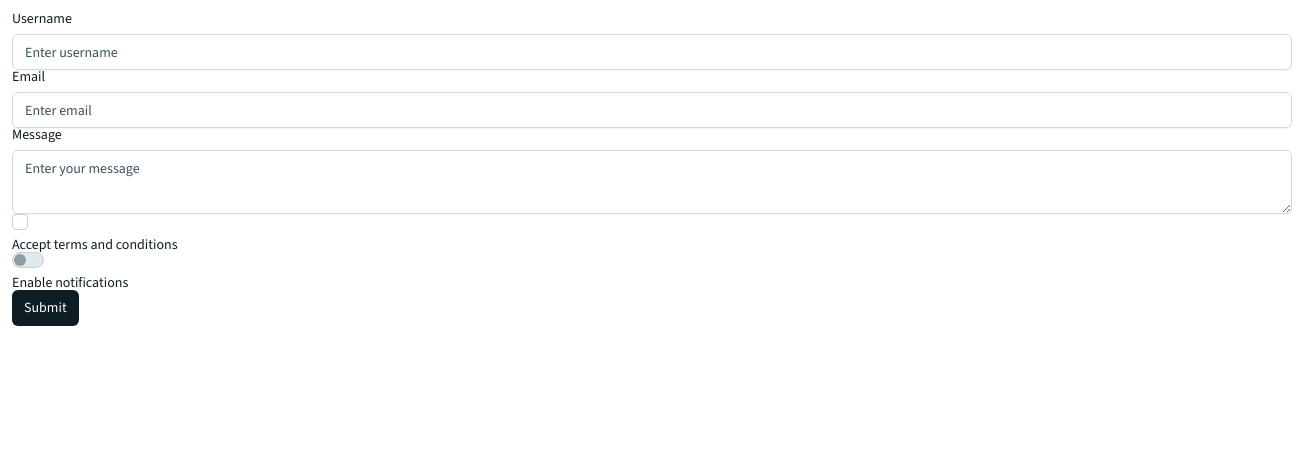
Scenario: Form Integration › Form validation › shows validation errors on submit with empty fields
Click the button "Submit".
click(45, 308)  # box x1=12 y1=290 x2=79 y2=326
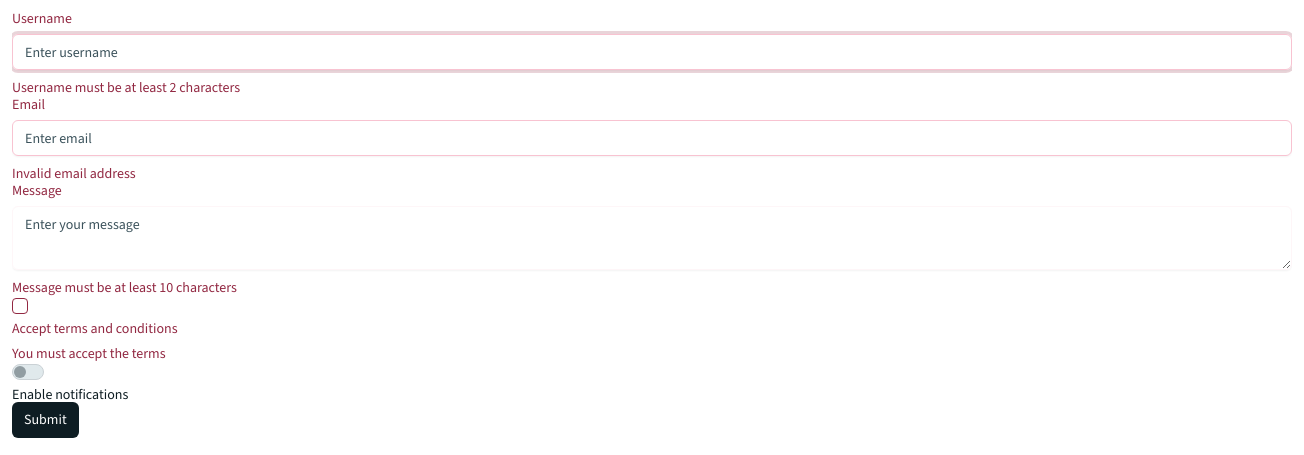
Expected: the text "Username must be at least 2 characters" is shown, x1=12 y1=78 x2=240 y2=97
